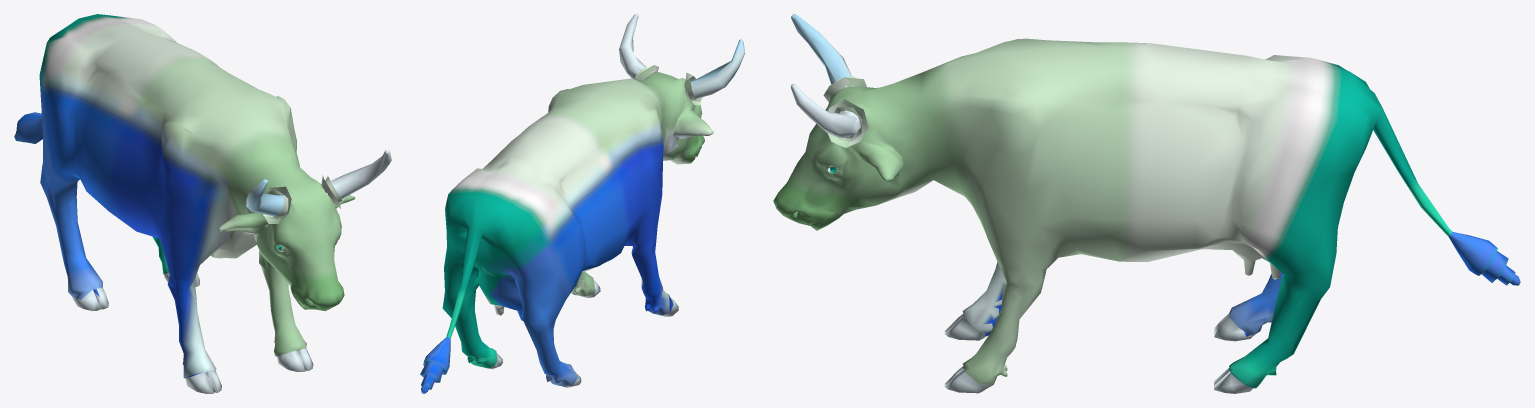
File: Cow.fbx
3 views of the same model, side by side, from view 1: azimuth 30°, elevation 25°; view 2: azimuth 150°, elevation 25°; view 3: azimuth 270°, elevation 25° (orthographic). The views are drawn at different scales.
Visible parts, largest first — view 1: Cow; view 2: Cow; view 3: Cow.
Boxes of the visible parts, left/top/right/bottom form: Cow: left=14, top=14, right=391, bottom=393; Cow: left=420, top=14, right=744, bottom=393; Cow: left=773, top=14, right=1520, bottom=393.
Bounding box in the file's own units: 76.17 × 130 × 281.
